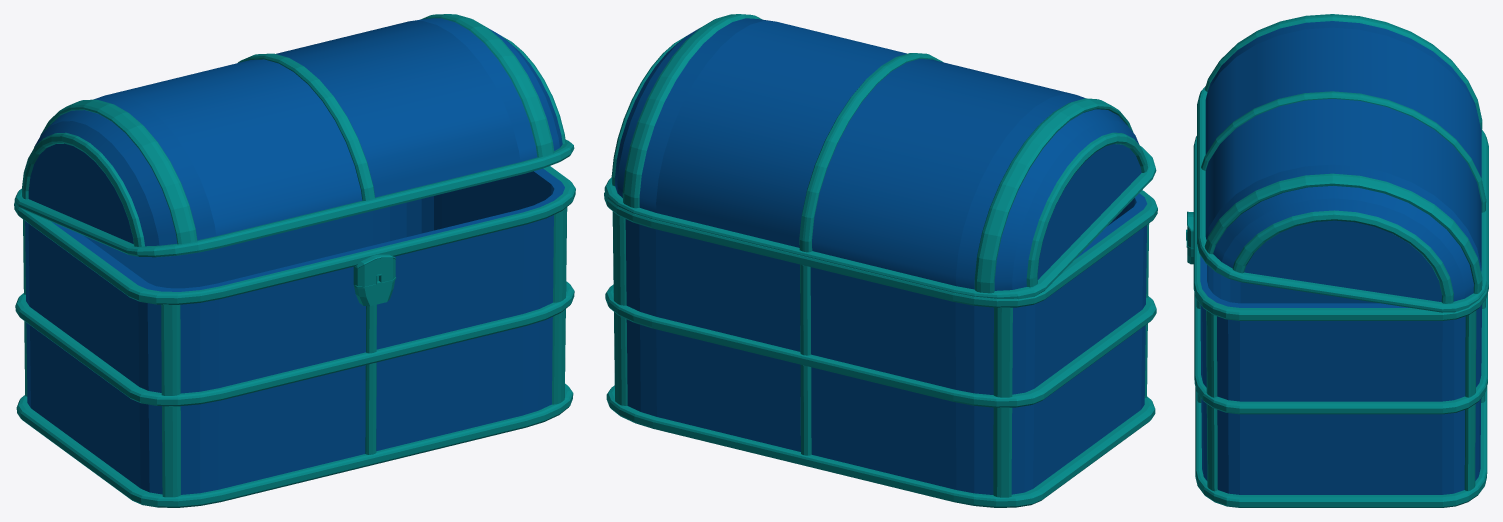
File: Chest.fbx
The picture shows the model from 3 angles, left to right: view 1: azimuth 30°, elevation 25°; view 2: azimuth 150°, elevation 25°; view 3: azimuth 270°, elevation 25°; orthographic projection. The views are drawn at different scales.
Visible parts, largest first — view 1: Chest:Chest_Base_Cube_Wood2; view 2: Chest:Chest_Base_Cube_Wood2; view 3: Chest:Chest_Base_Cube_Wood2.
Boxes of the visible parts, box(x1,y1,x2,y2) form: Chest:Chest_Base_Cube_Wood2: box(14, 14, 575, 507); Chest:Chest_Base_Cube_Wood2: box(604, 14, 1157, 507); Chest:Chest_Base_Cube_Wood2: box(1186, 14, 1488, 507).
Bounding box in the file's own units: 4.4 × 3.27 × 2.82.
